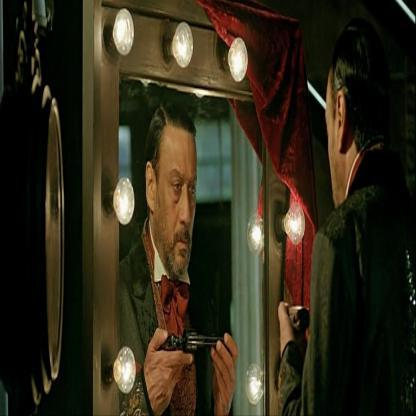gun: (159, 319, 229, 367)
